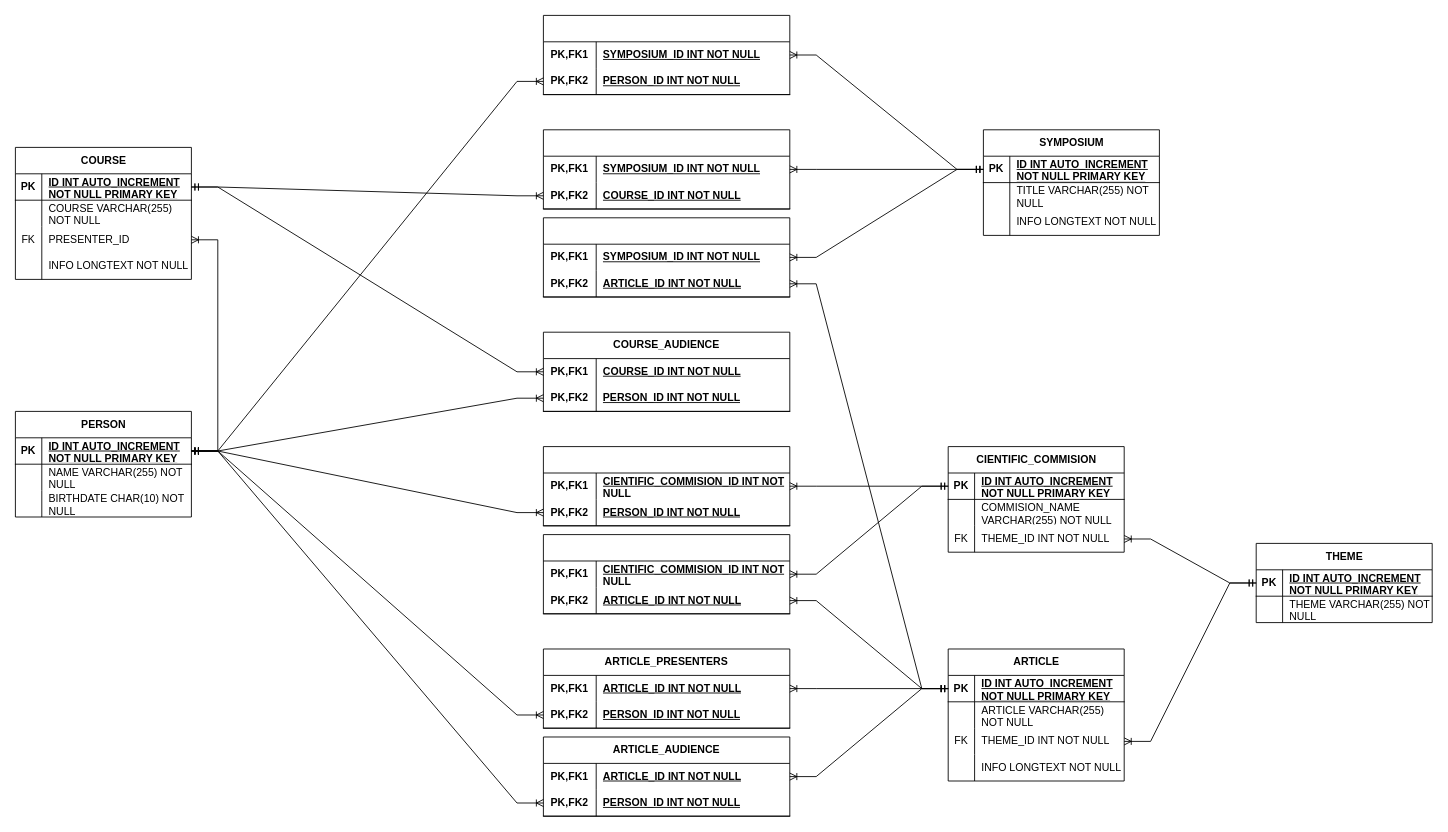
Some shapes in this 1448 by 832 pixel diagram are drawn without their labels. The shapes that lost their labels are listed below. From the top down, each one's box as (x1, y1, x2, y2) in pixels, then its label:
(543, 15, 790, 95): SYMPOSIUM_MANAGERS
(543, 129, 790, 209): SYMPOSIUM_COURSES
(543, 217, 790, 297): SYMPOSIUM_ARTICLES
(543, 446, 790, 526): CIENTIFIC_COMMISION_BOARD_MEMBERS
(543, 534, 790, 614): CIENTIFIC_COMMISION_ARTICLES
